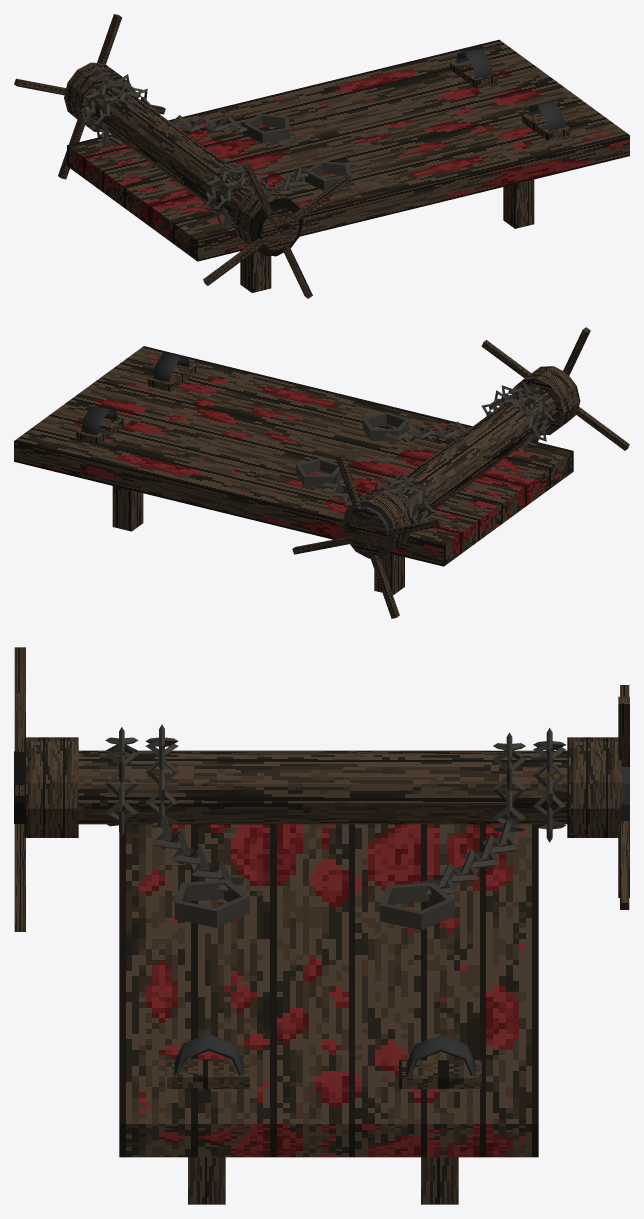
Rendered from mesarodillo.glb.
The picture shows the model from 3 angles, top to bottom: view 1: azimuth 30°, elevation 25°; view 2: azimuth 150°, elevation 25°; view 3: azimuth 270°, elevation 25°; orthographic projection. The views are drawn at different scales.
Parts seen in each view (by area): view 1: mesatortura1-col; view 2: mesatortura1-col; view 3: mesatortura1-col.
Part boxes in pixels (left/top/right/bottom): mesatortura1-col: left=14, top=14, right=629, bottom=298; mesatortura1-col: left=14, top=327, right=629, bottom=618; mesatortura1-col: left=14, top=647, right=629, bottom=1204.
Bounding box in the file's own units: 2.3 × 0.8766 × 1.67.
4 materials, 2 textured.
